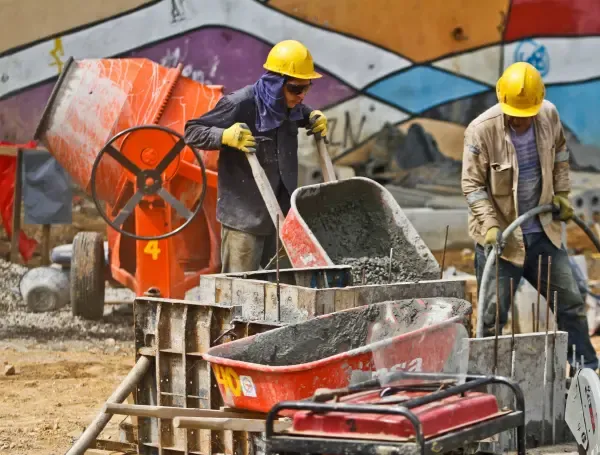Casco de seguridad: (496, 62, 544, 116), (263, 40, 321, 79)
